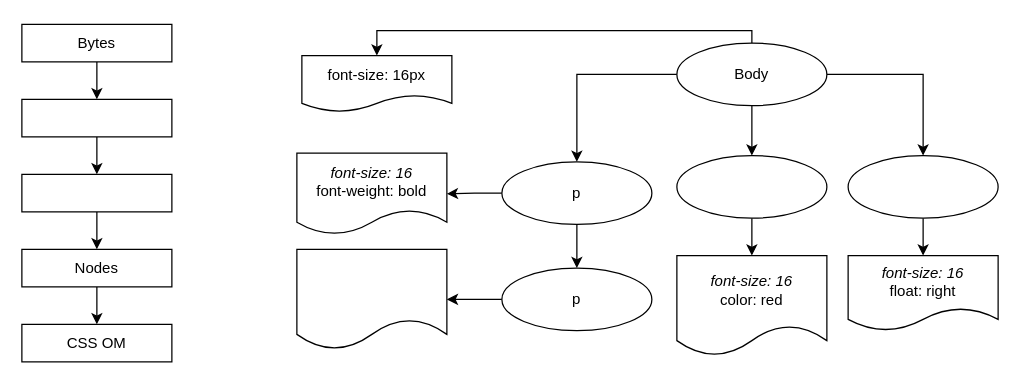
The diagram is 1020 pixels wide and 384 high, and some of its shapes have lost their labels. Here are the shapes that lost their labels. From the top down, the centre of each, then its label:
At (x=96, y=117): "Characters".
At (x=96, y=192): "Tokens".
At (x=751, y=186): "span".
At (x=922, y=186): "img".
At (x=371, y=298): "font-size: 16 font-weight: bold display: none".
